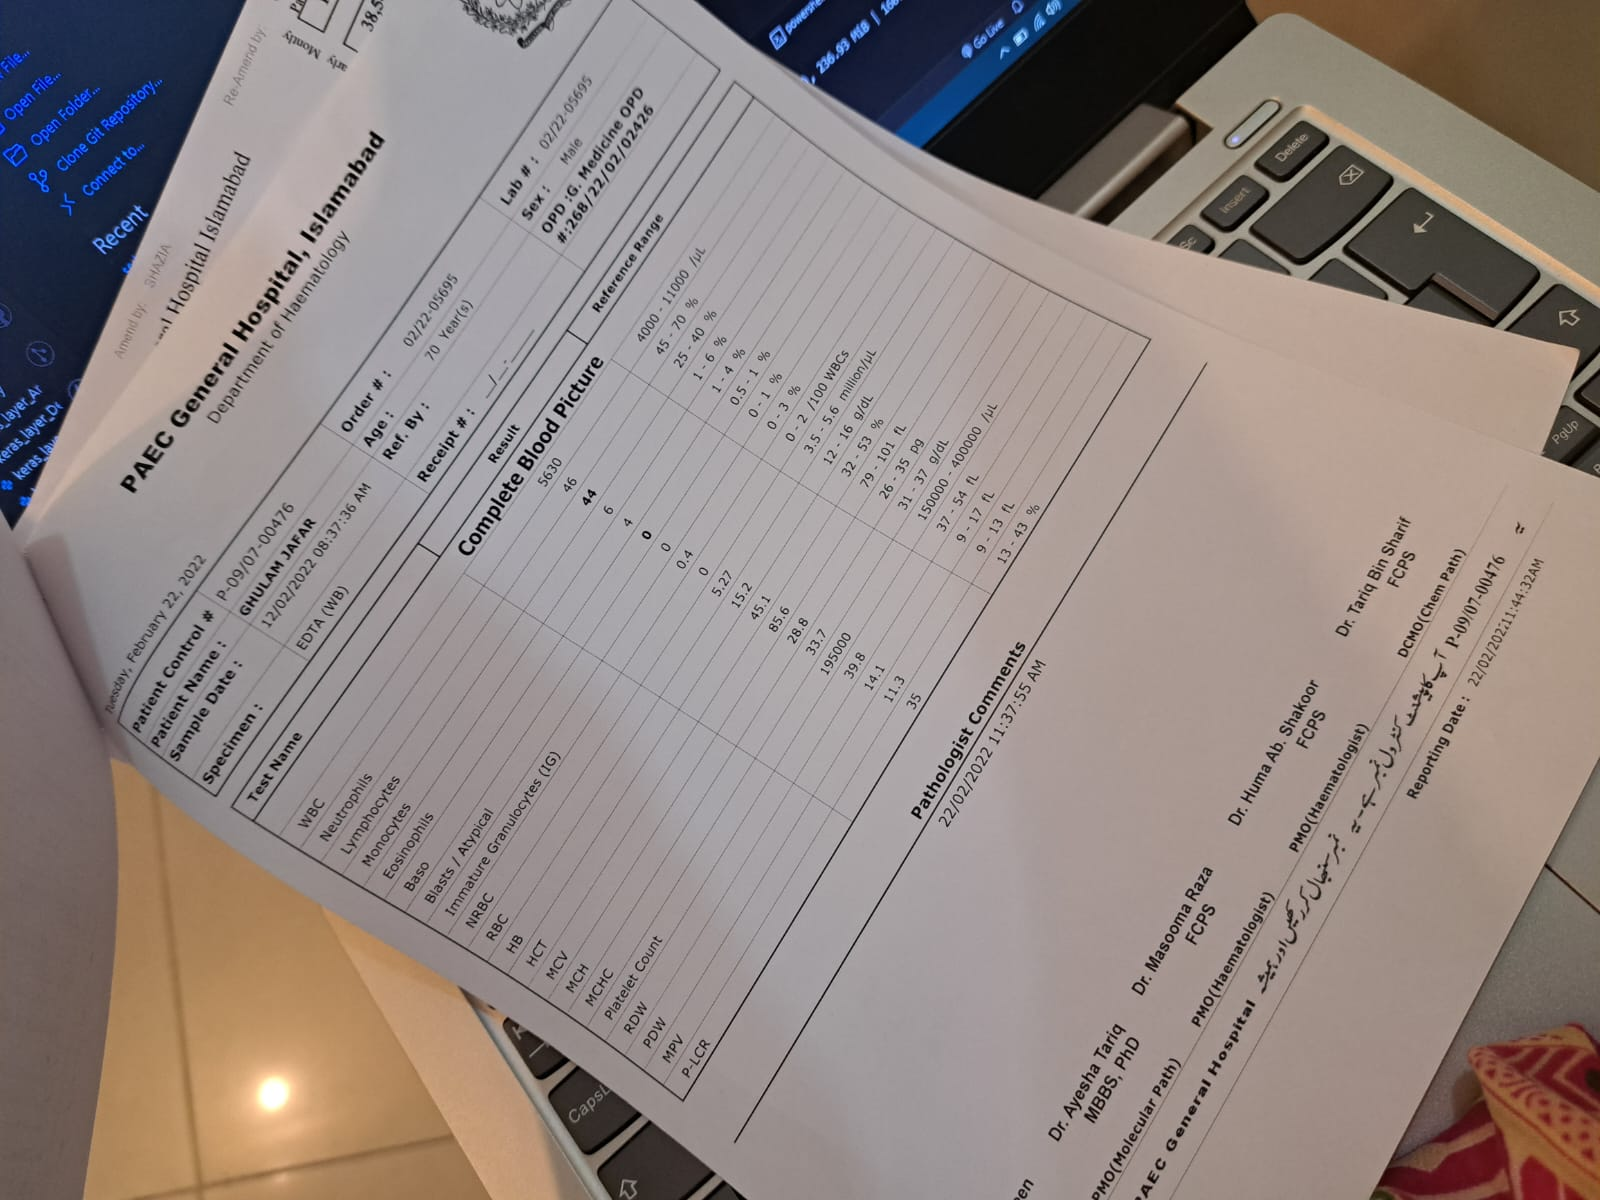report: (233, 77, 1162, 1099)
